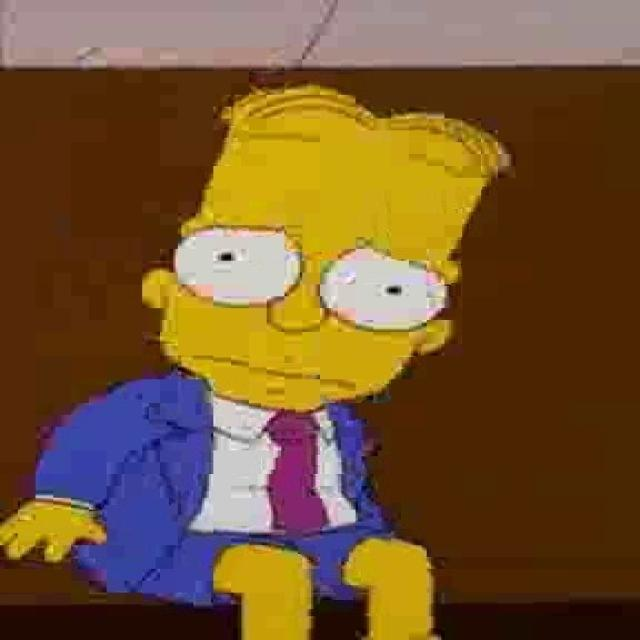Bart Simpson: (136, 80, 516, 415)
